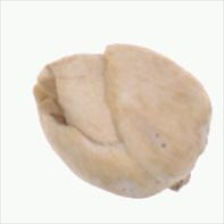L3: (31, 44, 121, 145)
L4: (34, 44, 213, 199)
